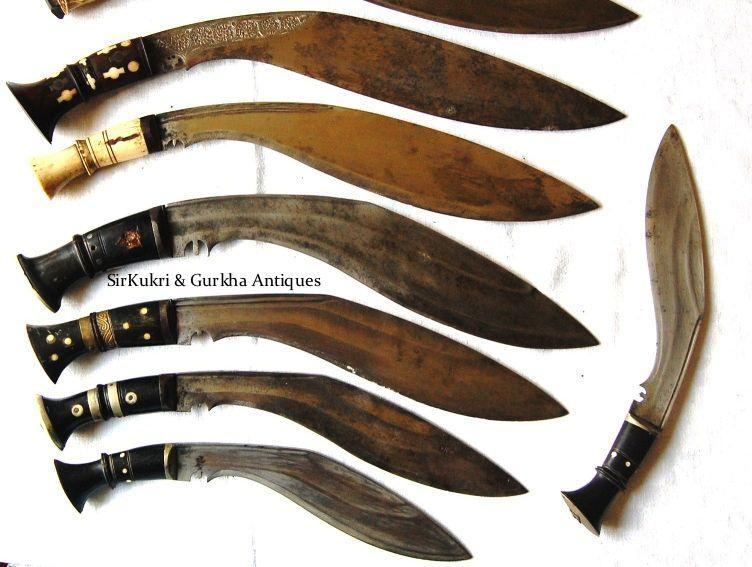facao: (18, 195, 597, 348), (8, 11, 624, 141), (28, 295, 567, 420), (33, 103, 598, 221), (39, 372, 526, 496), (562, 126, 705, 533), (55, 445, 471, 560)
